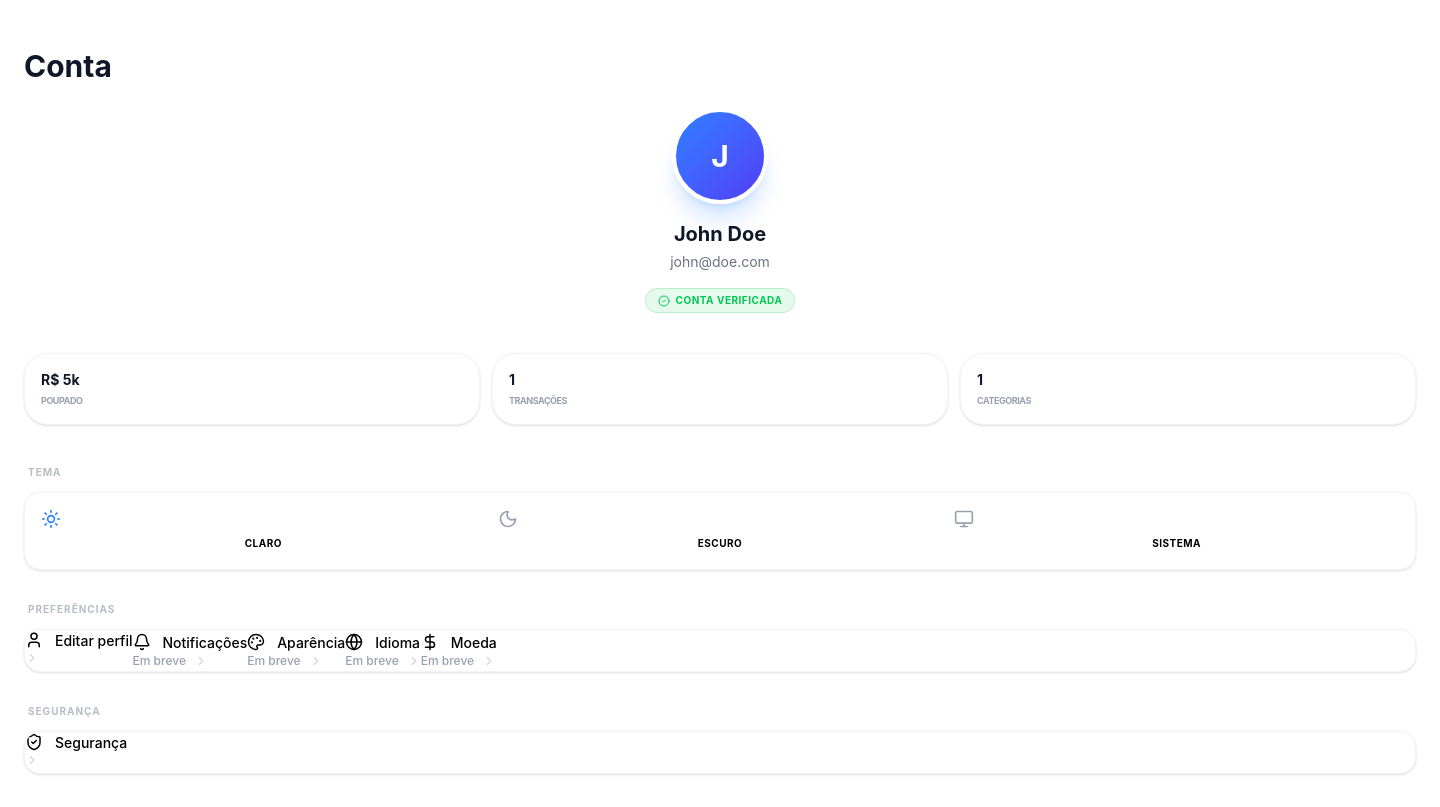
Profile Page Component › Mobile Mode › deve permitir navegar para Segurança no mobile
Click Segurança menu item
Click the button "Segurança" at (76, 749), box [25,732,127,766]
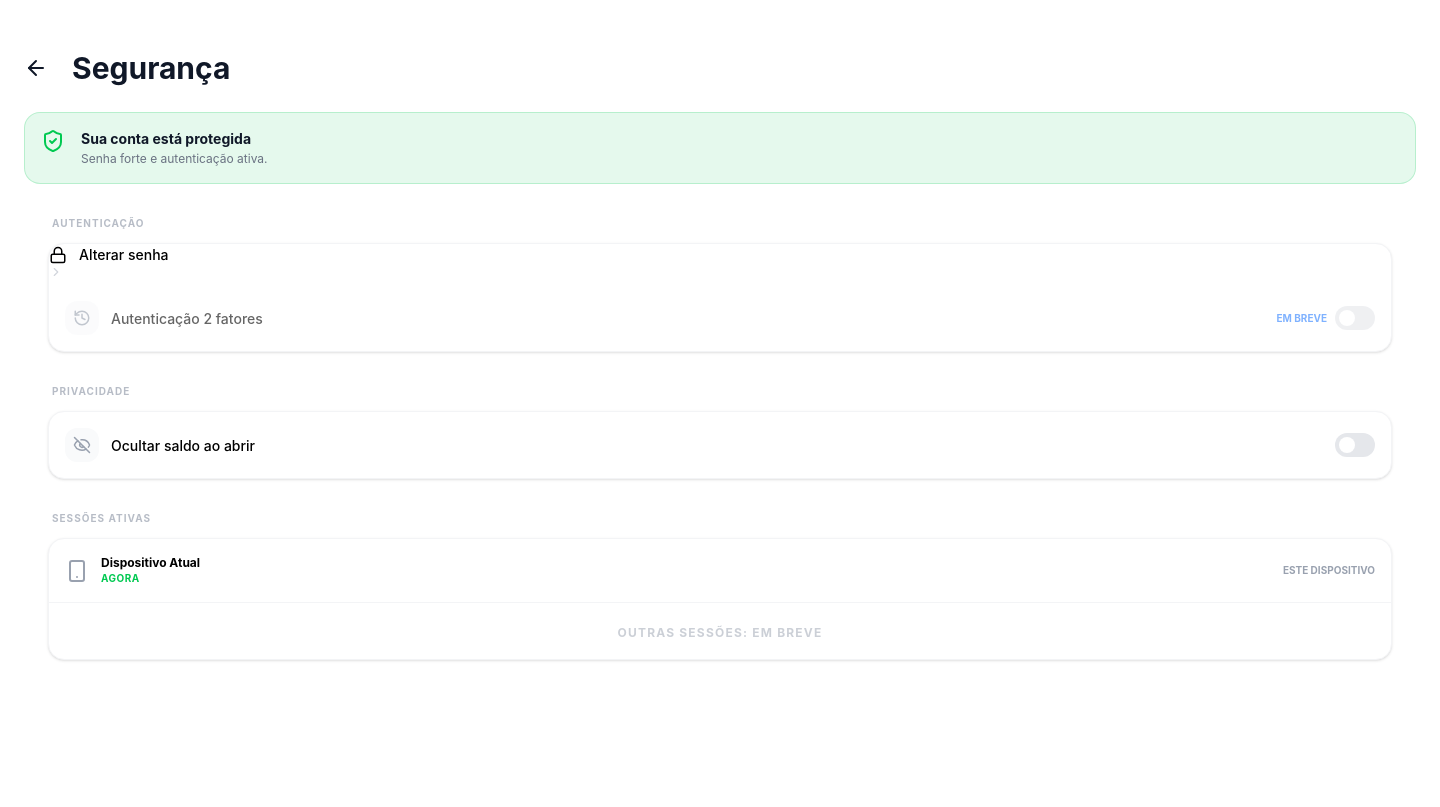
Expected: the text "Ocultar saldo ao abrir" is shown, [111,434,255,456]
